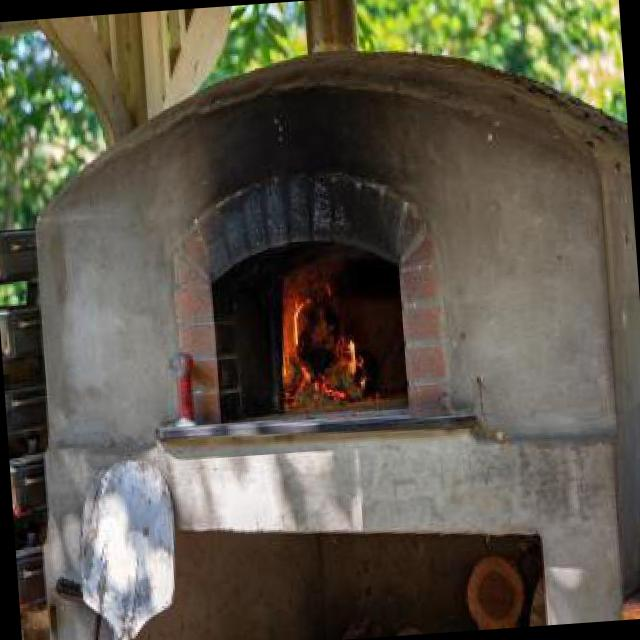Fire: (272, 259, 376, 405)
